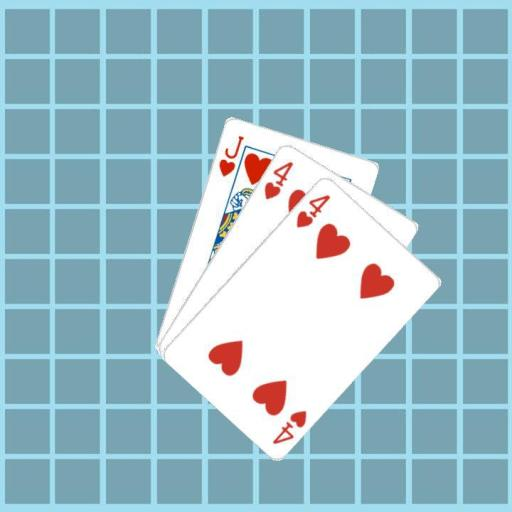4H: (269, 406, 309, 446), (260, 157, 295, 201), (293, 191, 332, 229)
JH: (215, 132, 245, 178)
